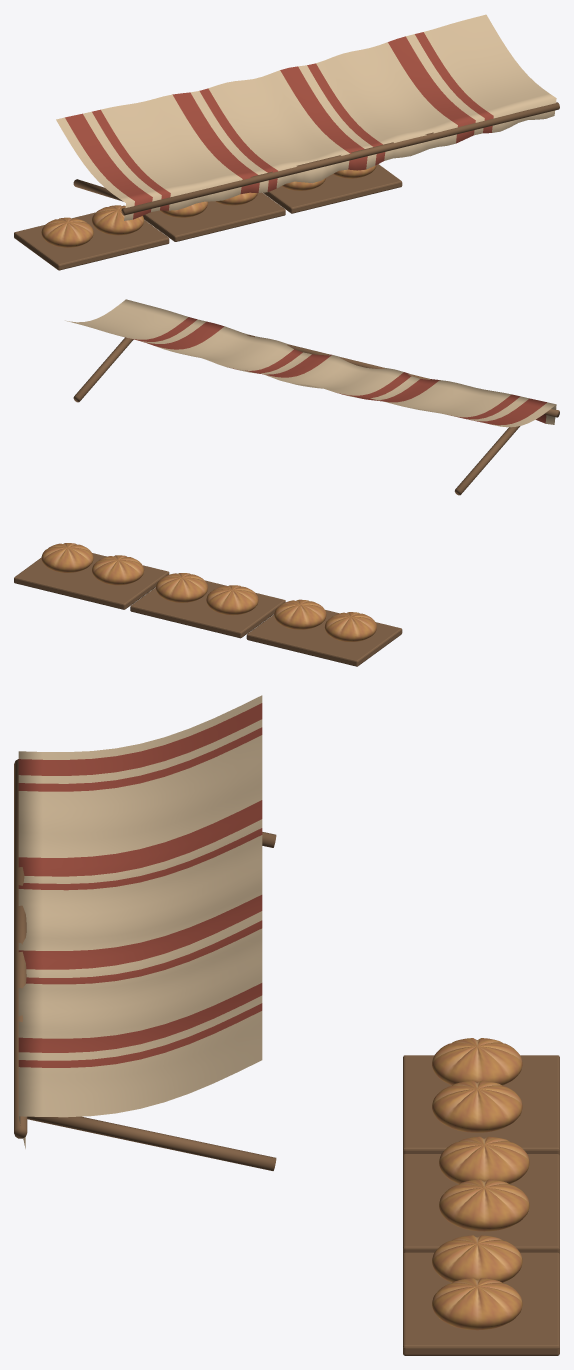
Rendered from market_bakery.glb.
The picture shows the model from 3 angles, top to bottom: view 1: azimuth 30°, elevation 25°; view 2: azimuth 150°, elevation 25°; view 3: azimuth 270°, elevation 25°; orthographic projection. The views are drawn at different scales.
Visible parts, largest first — view 1: Leinensegel, Brett_0, Vordachstange, Brett_1, Brett_2, Panis_00, Panis_01, Panis_02, Vordachstrebe; view 2: Leinensegel, Brett_0, Brett_2, Brett_1, Panis_04, Panis_01, Panis_03, Panis_05, Panis_00, Panis_02, Vordachstrebe, Vordachstrebe.001 (+1 smaller); view 3: Leinensegel, Brett_2, Brett_0, Brett_1, Panis_03, Panis_01, Panis_05, Panis_02, Panis_04, Panis_00, Vordachstrebe.001, Vordachstange.
Part boxes in pixels (<box>): Leinensegel: <box>56,14,556,220</box>; Brett_0: <box>14,205,169,270</box>; Vordachstange: <box>121,102,559,215</box>; Brett_1: <box>143,192,285,241</box>; Brett_2: <box>263,164,402,213</box>; Panis_00: <box>41,217,93,247</box>; Panis_01: <box>92,205,144,235</box>; Panis_02: <box>160,201,207,217</box>; Vordachstrebe: <box>73,179,123,201</box>; Leinensegel: <box>65,299,556,427</box>; Brett_0: <box>246,610,402,666</box>; Brett_2: <box>14,553,169,609</box>; Brett_1: <box>130,573,285,638</box>; Panis_04: <box>92,555,144,585</box>; Panis_01: <box>274,599,326,629</box>; Panis_03: <box>156,573,207,602</box>; Panis_05: <box>41,543,93,572</box>; Panis_00: <box>324,612,376,641</box>; Panis_02: <box>206,585,258,615</box>; Vordachstrebe: <box>454,426,520,495</box>; Vordachstrebe.001: <box>73,337,133,402</box>; Leinensegel: <box>18,695,262,1148</box>; Brett_2: <box>403,1252,559,1355</box>; Brett_0: <box>403,1055,559,1155</box>; Brett_1: <box>403,1154,559,1253</box>; Panis_03: <box>439,1179,529,1231</box>; Panis_01: <box>432,1080,522,1132</box>; Panis_05: <box>432,1278,522,1330</box>; Panis_02: <box>439,1136,529,1183</box>; Panis_04: <box>432,1235,522,1282</box>; Panis_00: <box>432,1038,522,1085</box>; Vordachstrebe.001: <box>27,1116,276,1170</box>; Vordachstange: <box>14,759,27,1138</box>.
Size of the model in its own units: 4.22 by 1.78 by 2.64.
